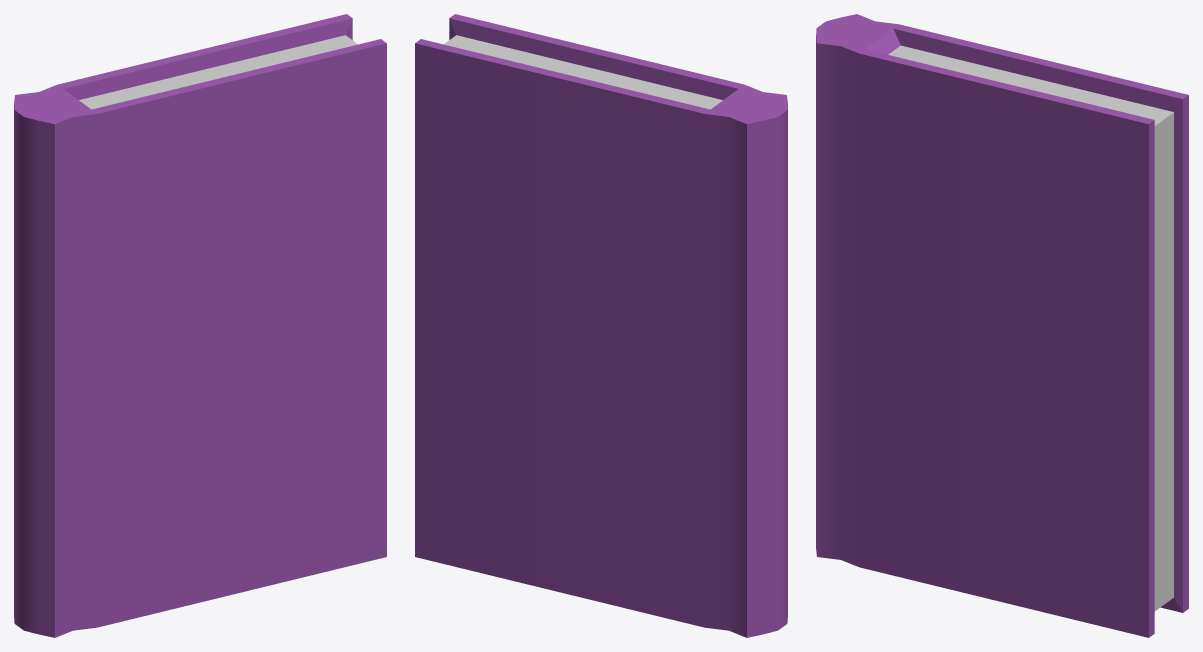
The model's file is book_5.fbx.
3 views of the same model, side by side, from view 1: azimuth 30°, elevation 25°; view 2: azimuth 150°, elevation 25°; view 3: azimuth 330°, elevation 25° (orthographic).
Parts seen in each view (by area): view 1: pCube1; view 2: pCube1; view 3: pCube1.
Boxes of the visible parts, bbox=[...] form: pCube1: bbox=[14, 14, 386, 637]; pCube1: bbox=[415, 14, 787, 637]; pCube1: bbox=[816, 14, 1188, 637].
Size of the model in its own units: 11.6 by 16.38 by 2.31.
